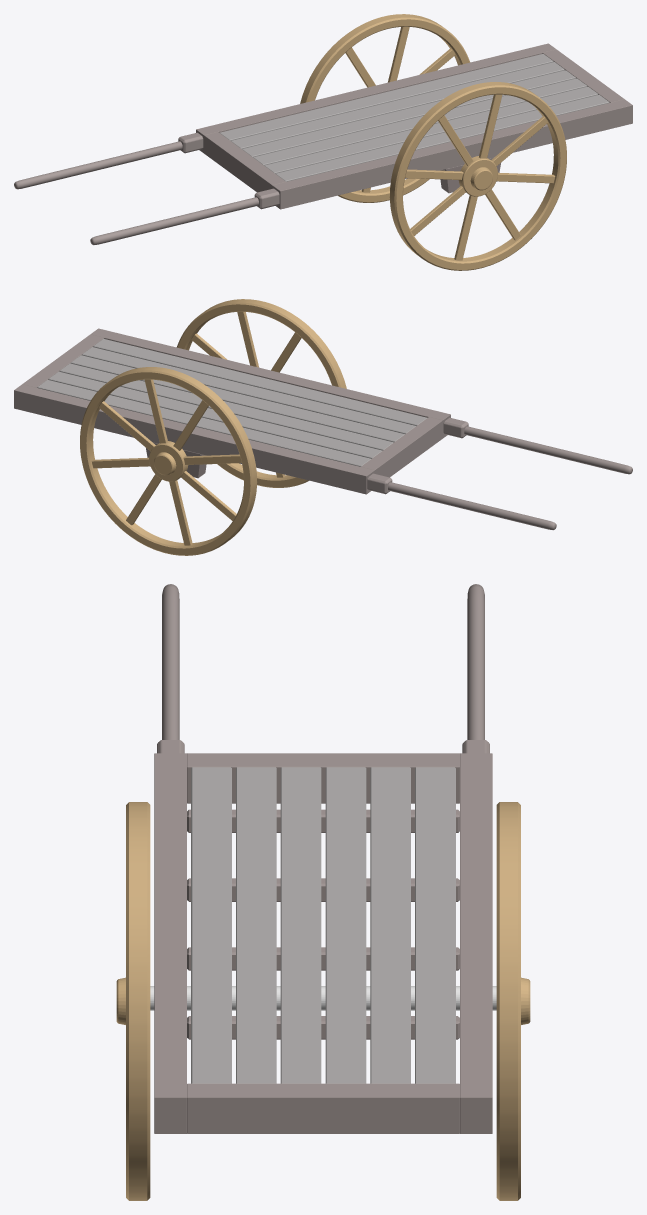
The model's file is cart final.fbx.
3 views of the same model, one above another, from view 1: azimuth 30°, elevation 25°; view 2: azimuth 150°, elevation 25°; view 3: azimuth 270°, elevation 25° (orthographic). The views are drawn at different scales.
Visible parts, largest first — view 1: cargo.area, cart, rim1, spokes1, rim2, handle.001, handle, spokes2, cap.001; view 2: cargo.area, cart, rim2, spokes2, rim1, handle.001, handle, spokes1, cap; view 3: cargo.area, cart, rim2, rim1, bars, handle.001, handle, axis.
Boxes of the visible parts, x1=… form: cargo.area: x1=220, y1=54, x2=609, y2=181; cart: x1=178, y1=43, x2=632, y2=209; rim1: x1=389, y1=82, x2=566, y2=270; spokes1: x1=405, y1=94, x2=555, y2=260; rim2: x1=300, y1=14, x2=470, y2=202; handle.001: x1=14, y1=141, x2=182, y2=189; handle: x1=90, y1=197, x2=258, y2=245; spokes2: x1=345, y1=26, x2=455, y2=192; cap.001: x1=458, y1=156, x2=497, y2=196; cargo.area: x1=37, y1=339, x2=426, y2=466; cart: x1=14, y1=328, x2=468, y2=494; rim2: x1=80, y1=367, x2=257, y2=555; spokes2: x1=91, y1=379, x2=241, y2=545; rim1: x1=176, y1=299, x2=346, y2=487; handle.001: x1=388, y1=482, x2=556, y2=530; handle: x1=464, y1=426, x2=632, y2=474; spokes1: x1=191, y1=311, x2=301, y2=477; cap: x1=149, y1=441, x2=188, y2=481; cargo.area: x1=191, y1=767, x2=455, y2=1083; cart: x1=154, y1=740, x2=492, y2=1133; rim2: x1=496, y1=802, x2=520, y2=1200; rim1: x1=126, y1=802, x2=150, y2=1200; bars: x1=187, y1=809, x2=459, y2=1039; handle.001: x1=467, y1=584, x2=484, y2=739; handle: x1=162, y1=584, x2=179, y2=739; axis: x1=150, y1=986, x2=496, y2=1010.
Bounding box in the file's own units: 3048 × 979 × 1016.
